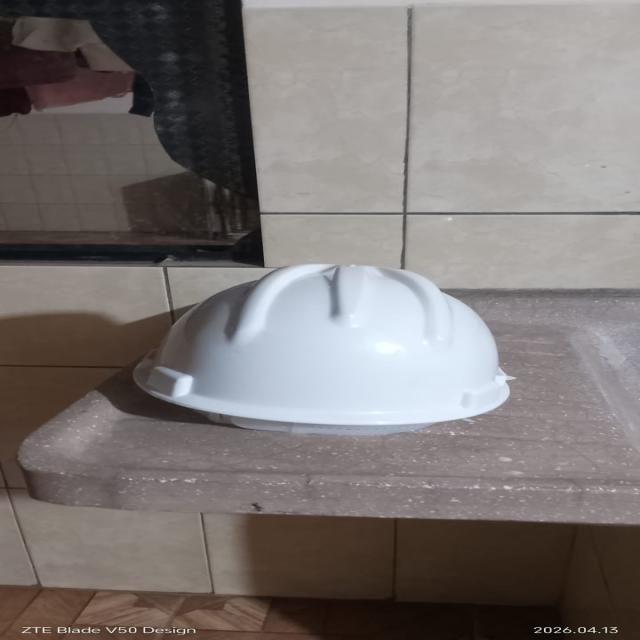casco: (119, 258, 526, 442)
